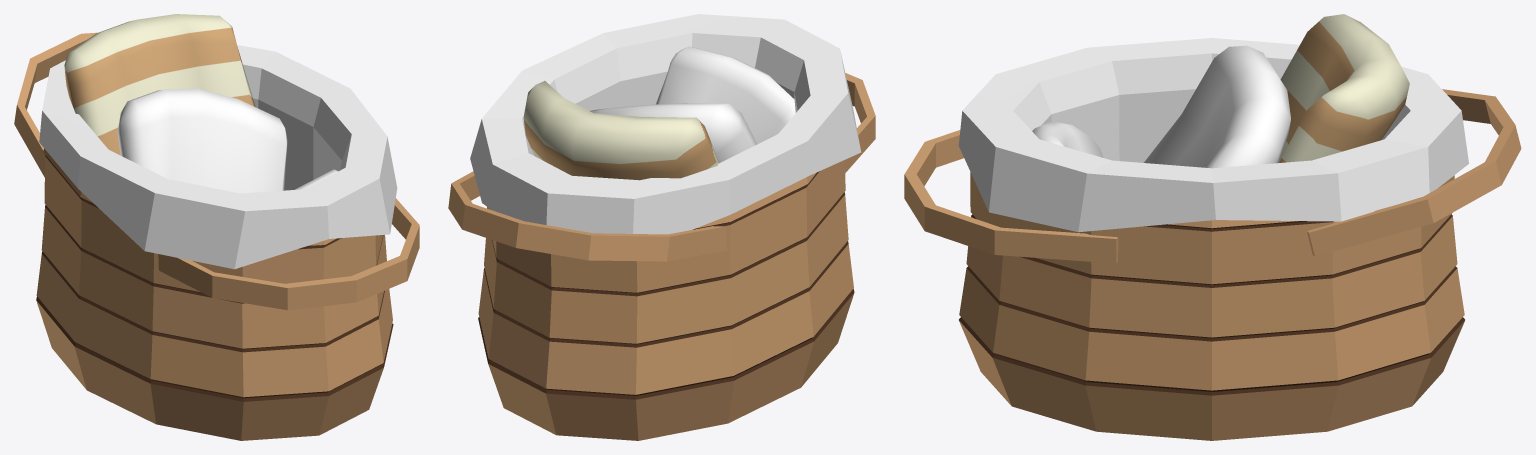
Rendered from F_Basket_01.fbx.
3 views of the same model, side by side, from view 1: azimuth 30°, elevation 25°; view 2: azimuth 150°, elevation 25°; view 3: azimuth 270°, elevation 25° (orthographic). The views are drawn at different scales.
Parts seen in each view (by area): view 1: F_Basket_01; view 2: F_Basket_01; view 3: F_Basket_01.
Part boxes in pixels (x1,y1,x2,y2): F_Basket_01: (14,14,419,440); F_Basket_01: (448,14,875,440); F_Basket_01: (904,14,1521,440).
Bounding box in the file's own units: 89.78 × 86.88 × 154.
